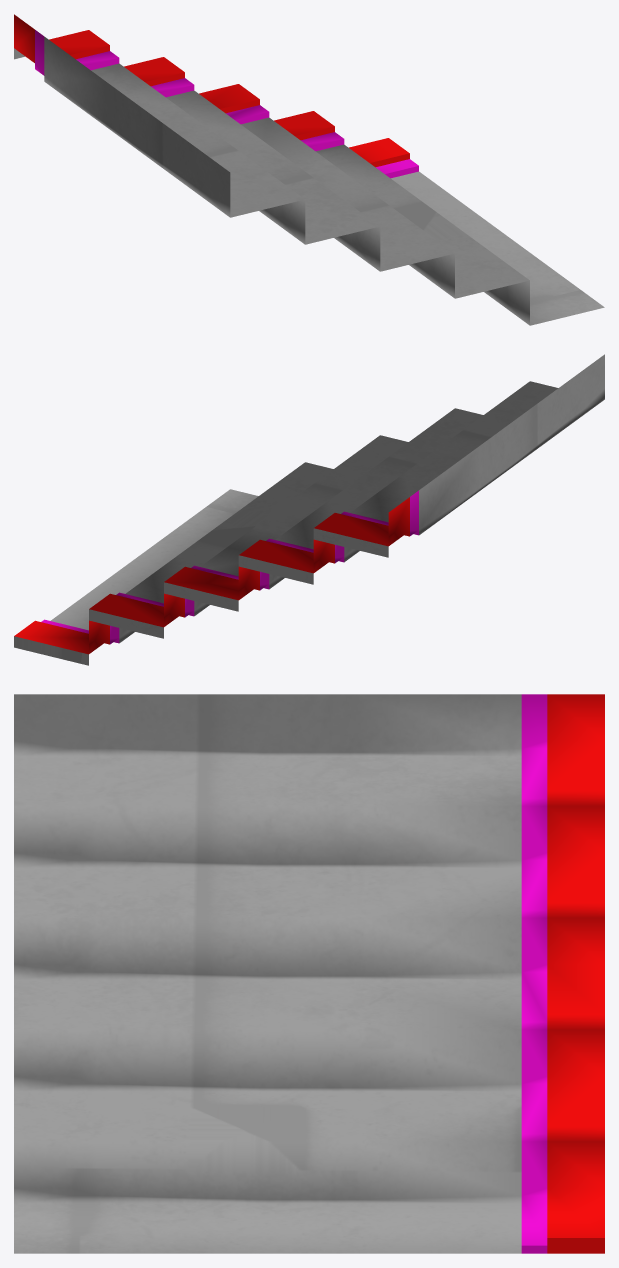
The model's file is Floor-StairsSide.fbx.
The picture shows the model from 3 angles, top to bottom: view 1: azimuth 30°, elevation 25°; view 2: azimuth 150°, elevation 25°; view 3: azimuth 270°, elevation 25°; orthographic projection. The views are drawn at different scales.
Visible parts, largest first — view 1: StairsSide; view 2: StairsSide; view 3: StairsSide.
Boxes of the visible parts, bbox=[...] form: StairsSide: bbox=[14, 14, 604, 325]; StairsSide: bbox=[14, 354, 604, 665]; StairsSide: bbox=[14, 694, 604, 1253].
Bounding box in the file's own units: 78.74 × 45.47 × 78.74.
3 materials, 1 textured.
